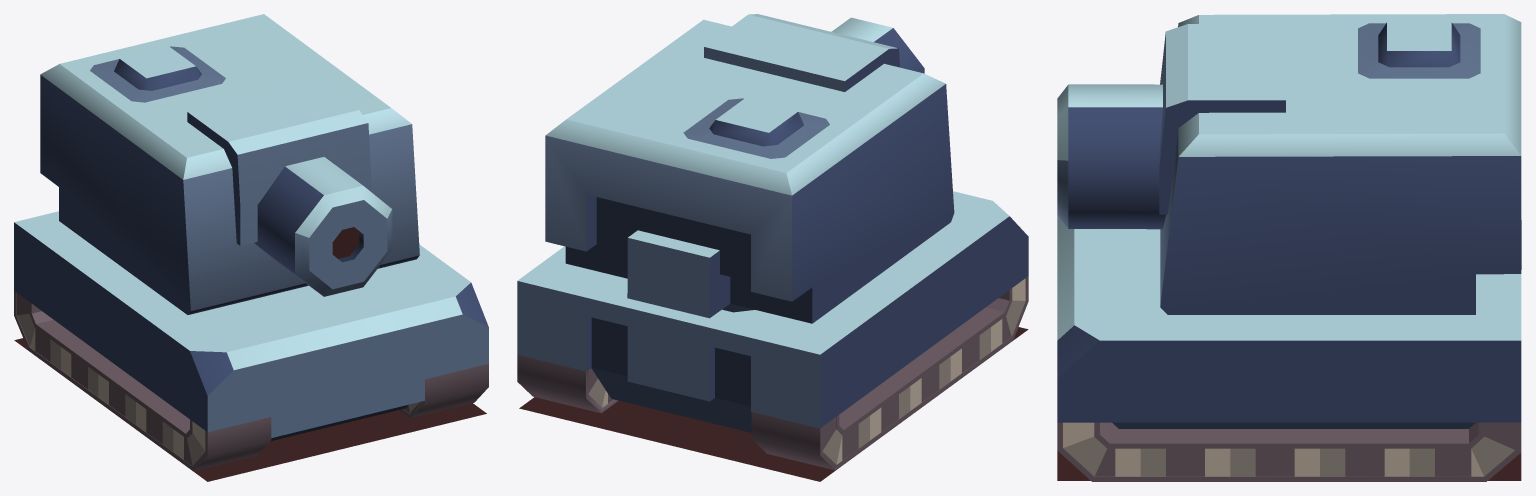
The model's file is MediumTankMesh.SilverClaw.glb.
3 views of the same model, side by side, from view 1: azimuth 30°, elevation 25°; view 2: azimuth 150°, elevation 25°; view 3: azimuth 270°, elevation 25° (orthographic). The views are drawn at different scales.
Parts seen in each view (by area): view 1: MediumTankMesh.SilverClaw; view 2: MediumTankMesh.SilverClaw; view 3: MediumTankMesh.SilverClaw.
Part boxes in pixels (box(x1,y1,x2,y2)): MediumTankMesh.SilverClaw: box(14, 14, 488, 481); MediumTankMesh.SilverClaw: box(517, 14, 1028, 481); MediumTankMesh.SilverClaw: box(1057, 14, 1521, 481).
Bounding box in the file's own units: 1.72 × 1.66 × 2.05.
Materials: 1 (1 with a texture image).
